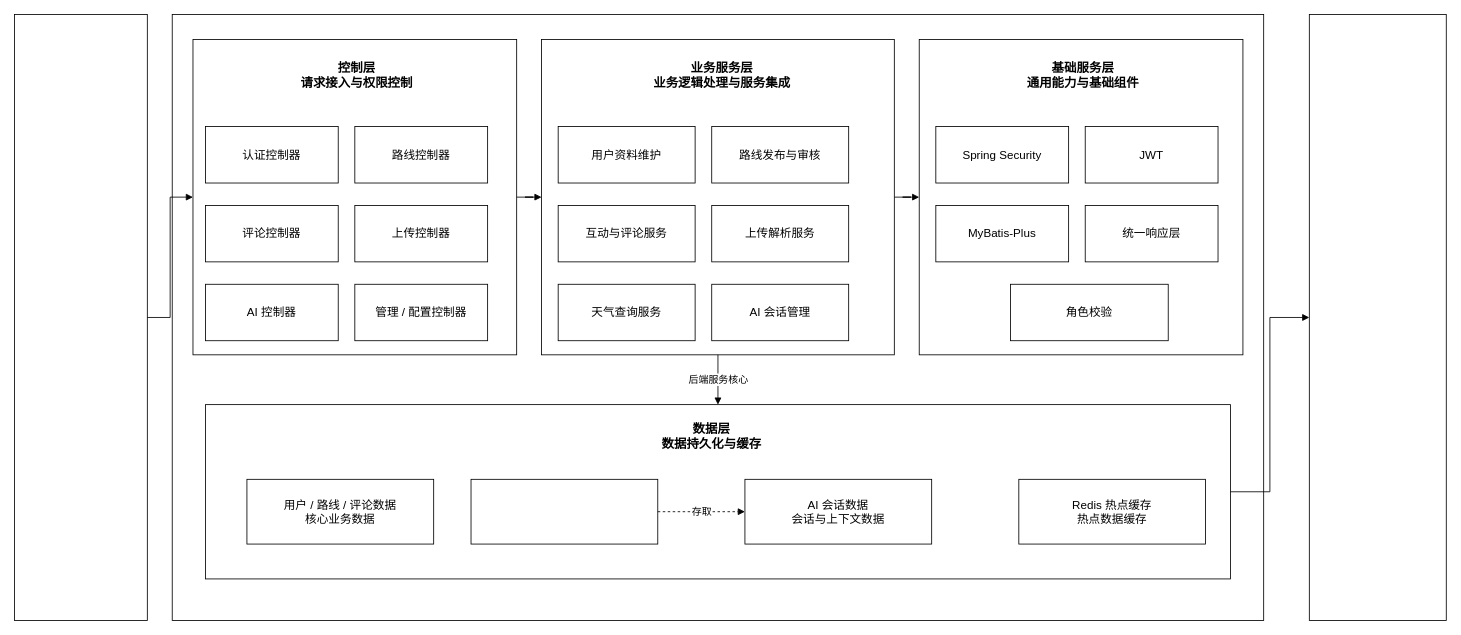
This 1461x635 diagram has some shape labels left out. Here are the shapes that lost their labels. From the top down, the box of each, then its label:
(14, 14, 147, 620): 接入侧 客户端 / 前端 API 请求接入
(1308, 14, 1446, 620): 存储与基础设施 数据存储与缓存 基础服务支撑
(470, 478, 658, 544): 媒体 / 轨迹数据 文件与轨迹存储
